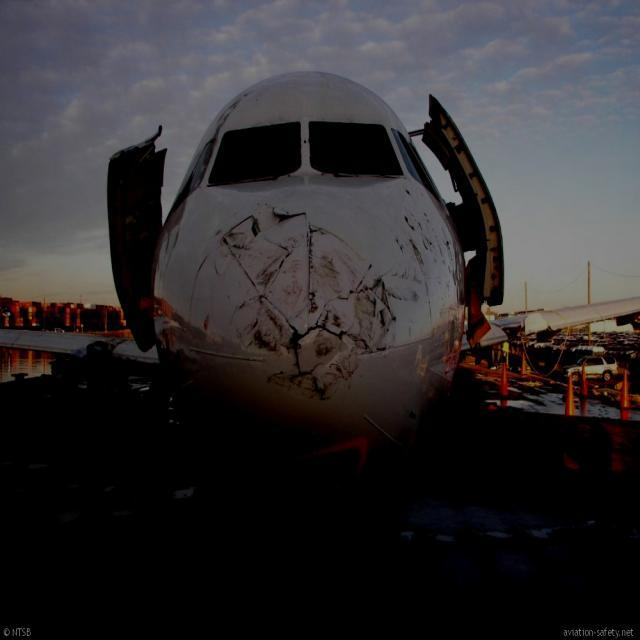crack: (190, 208, 401, 407)
